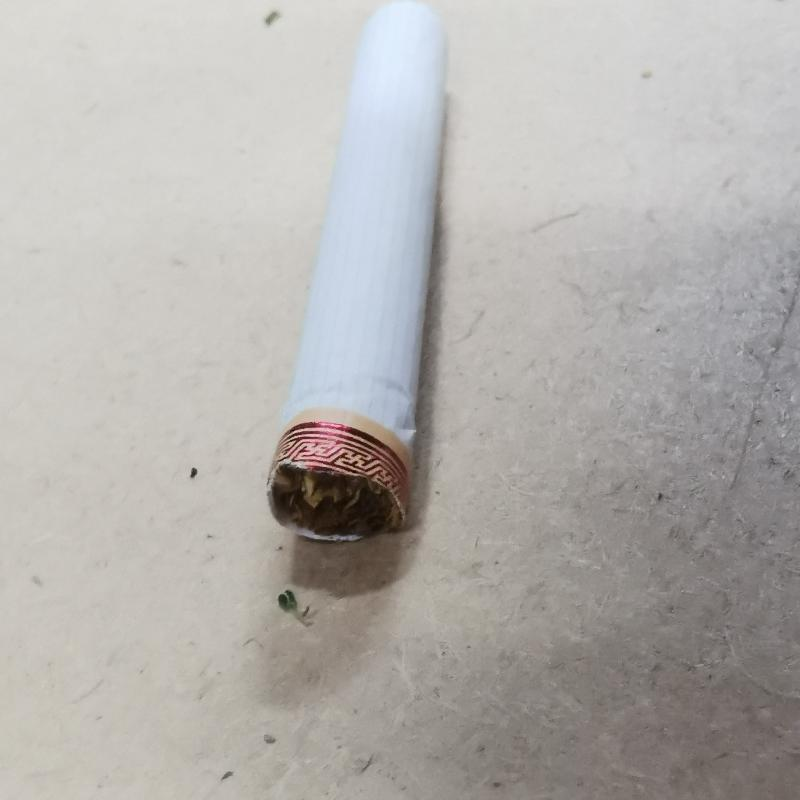cigarette: (265, 7, 450, 540)
